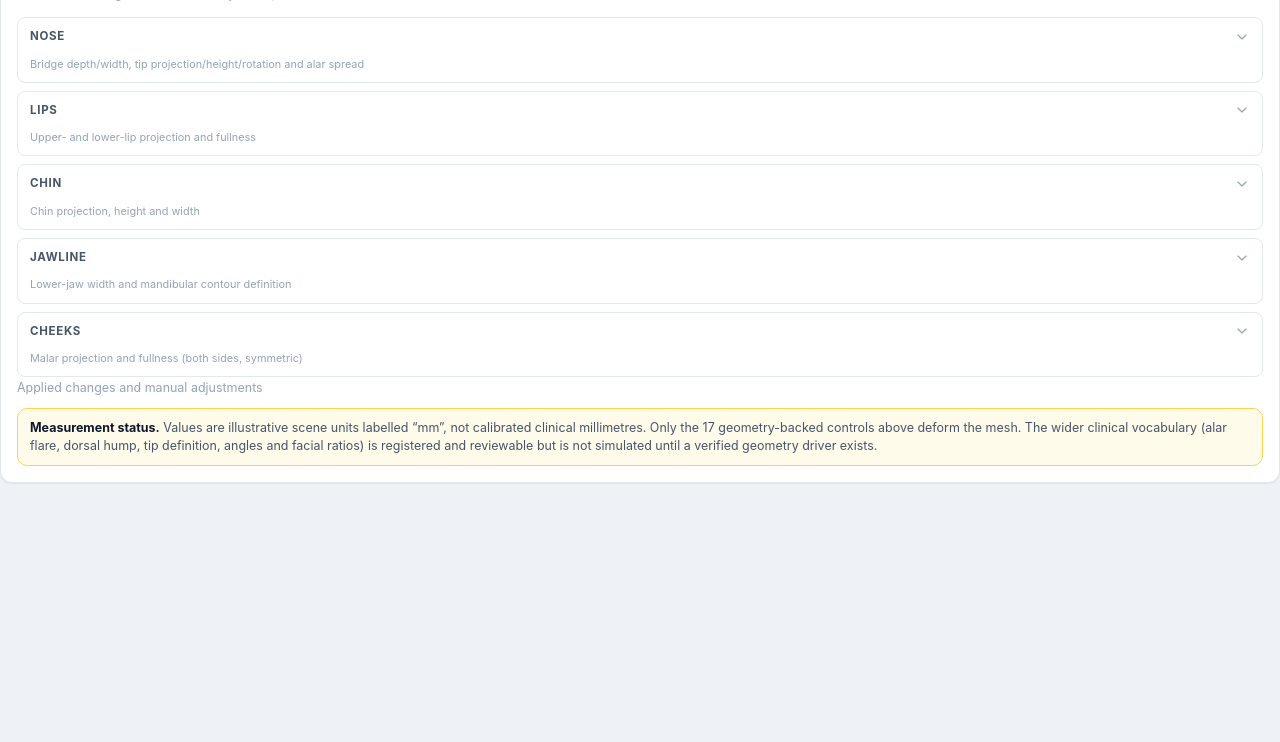
Scenario: ParameterPanel › keeps reset disabled for untouched controls
Click the button "Nose": (47, 36) [18, 18, 1262, 56]
(page scrolled)
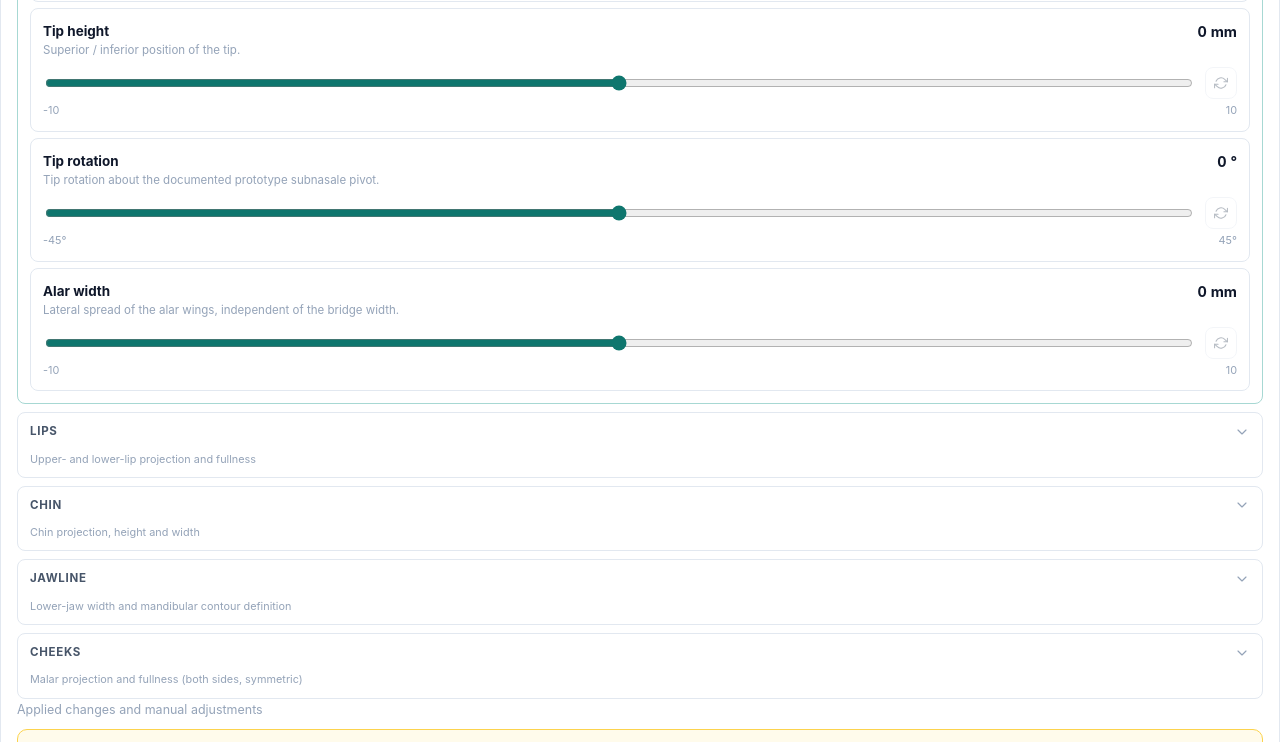
Expected: the button named "Reset Alar width to 0" is disabled, [1205, 327, 1237, 359]
